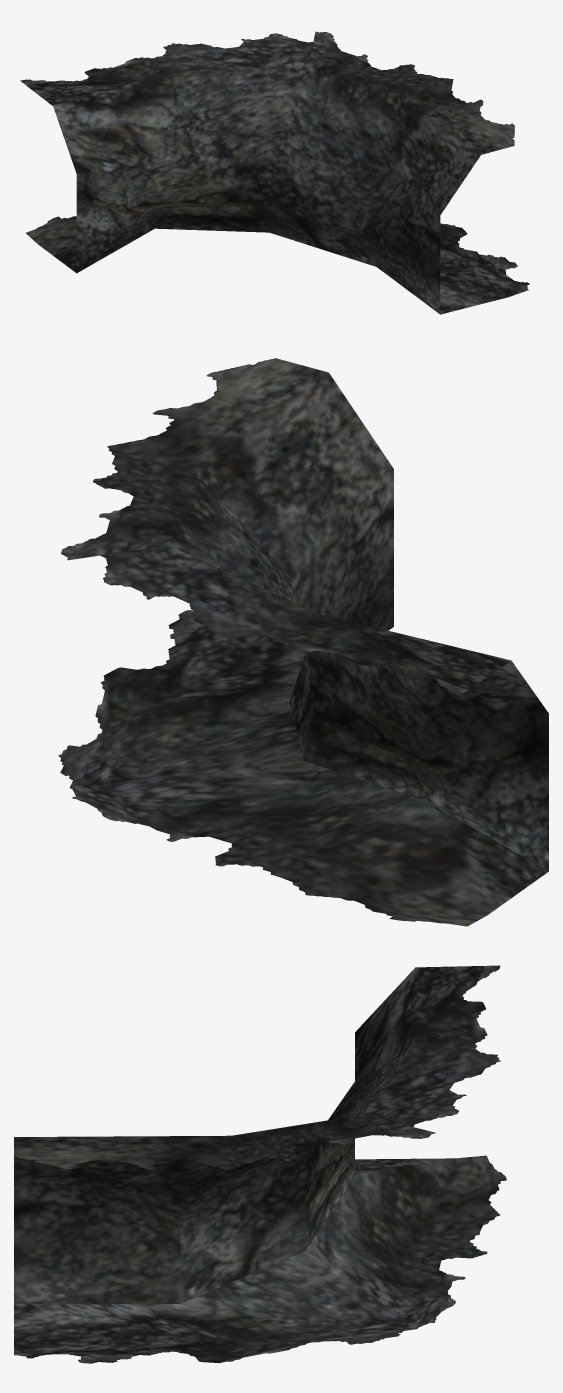
Rendered from rock_Lconcave.dae.
The picture shows the model from 3 angles, top to bottom: view 1: azimuth 30°, elevation 25°; view 2: azimuth 150°, elevation 25°; view 3: azimuth 270°, elevation 25°; orthographic projection. The views are drawn at different scales.
Parts seen in each view (by area): view 1: polySurface9; view 2: polySurface9; view 3: polySurface9.
Boxes of the visible parts, x1,y1,x2,y2 form: polySurface9: (20,31,529,314); polySurface9: (58,358,548,926); polySurface9: (14,965,506,1363).
Size of the model in its own units: 1.33 by 0.5431 by 1.33.
